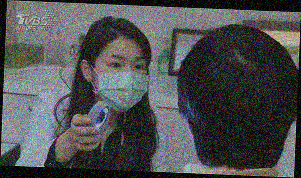with_mask: (95, 53, 151, 114)
